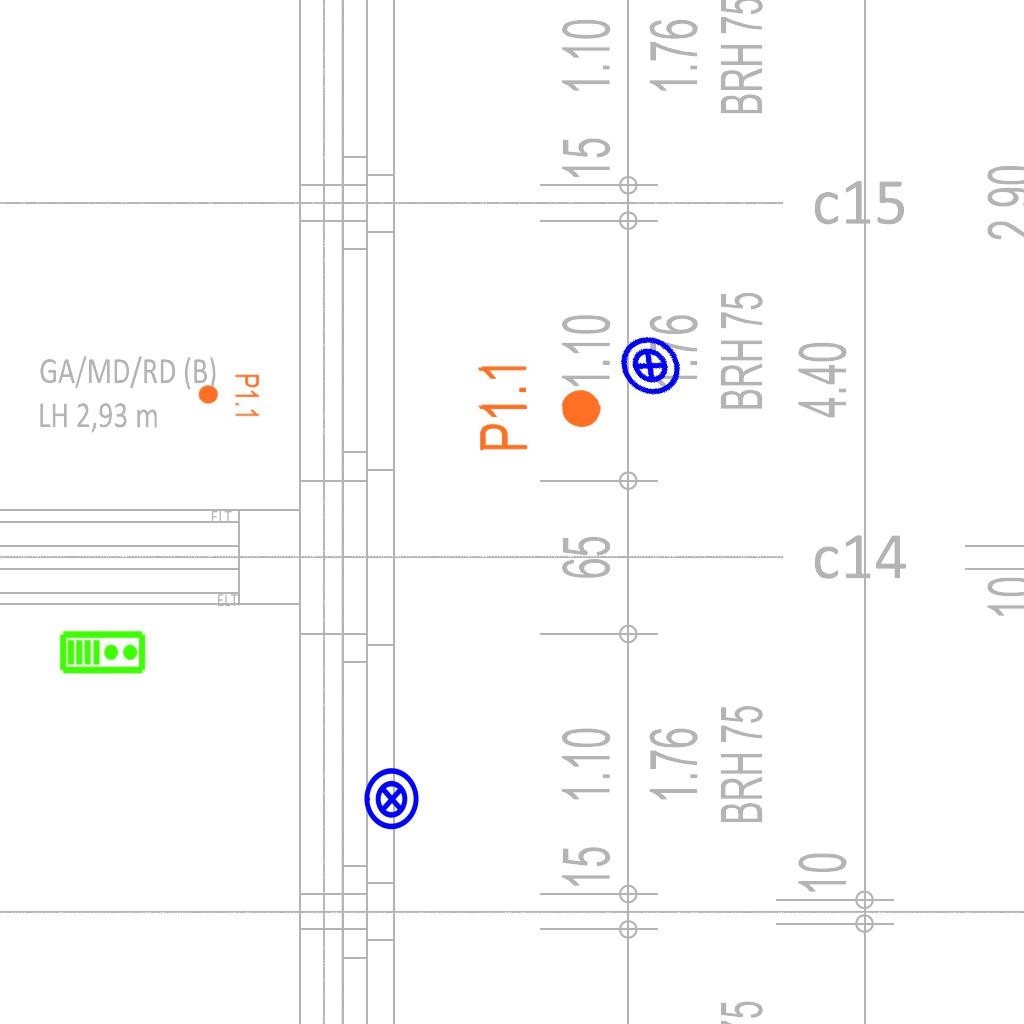Downlight_LED_Einbauleuchten_Flur: (474, 358, 605, 454), (197, 373, 261, 419)
Gegensprechanlage_mit_Video: (59, 628, 147, 675)
Taster_beleuchtet: (603, 319, 697, 413), (359, 766, 425, 832)
